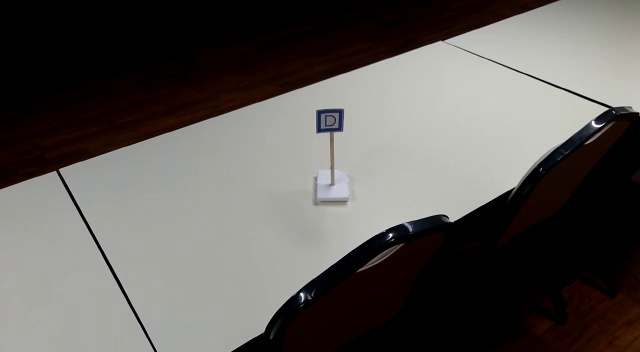durak: (314, 110, 344, 133)
